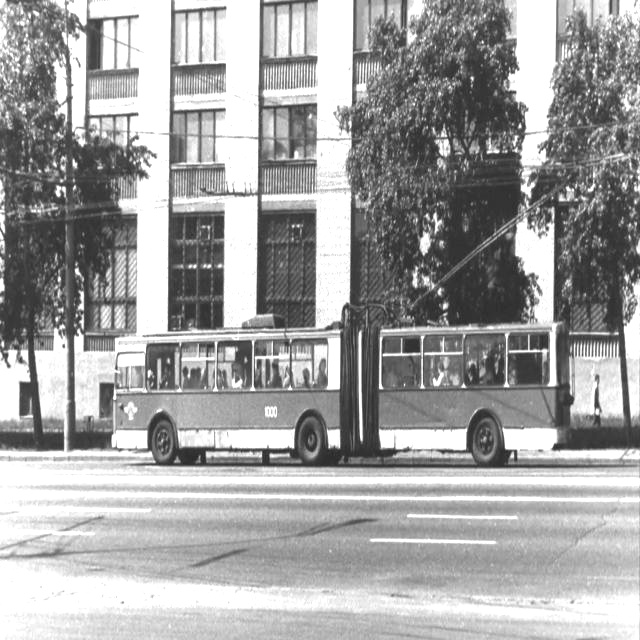bus: (92, 297, 576, 478)
